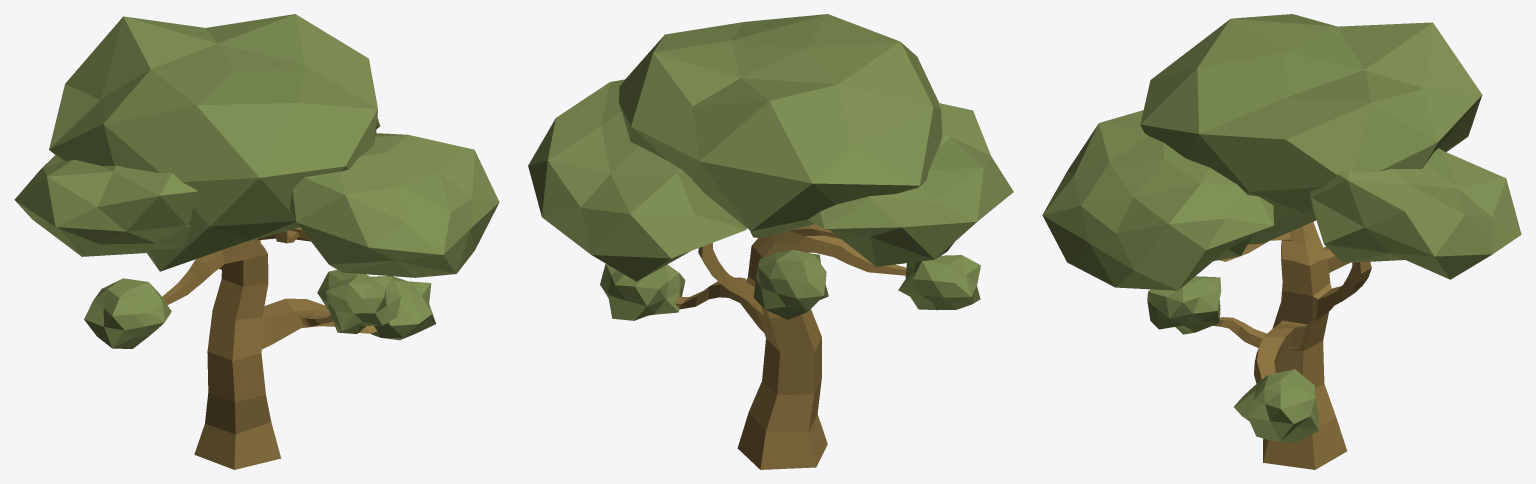
Rendered from big_tree.fbx.
3 renders of one model, left to right at view 1: azimuth 30°, elevation 25°; view 2: azimuth 150°, elevation 25°; view 3: azimuth 270°, elevation 25°, orthographic. The views are drawn at different scales.
Parts seen in each view (by area): view 1: Cylinder.003; view 2: Cylinder.003; view 3: Cylinder.003.
Part boxes in pixels (x1,y1,x2,y2): Cylinder.003: [14, 14, 499, 469]; Cylinder.003: [528, 14, 1013, 469]; Cylinder.003: [1042, 14, 1521, 469].
Bounding box in the file's own units: 916 × 900 × 969.
